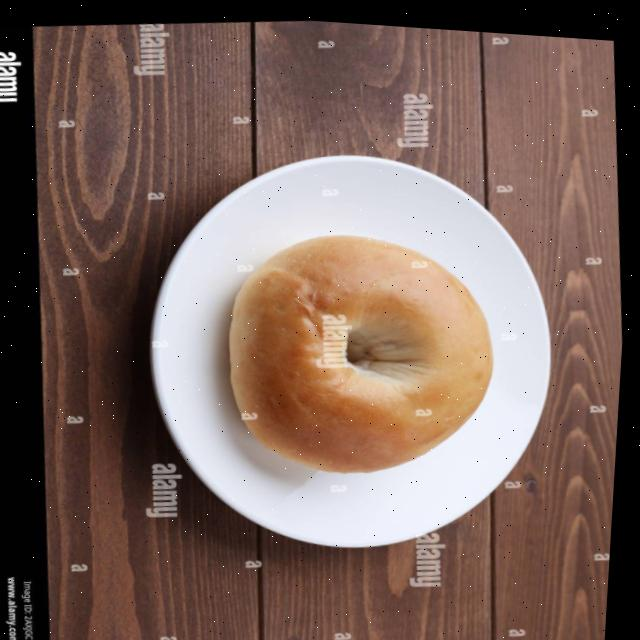Bagel: (232, 231, 496, 467)
